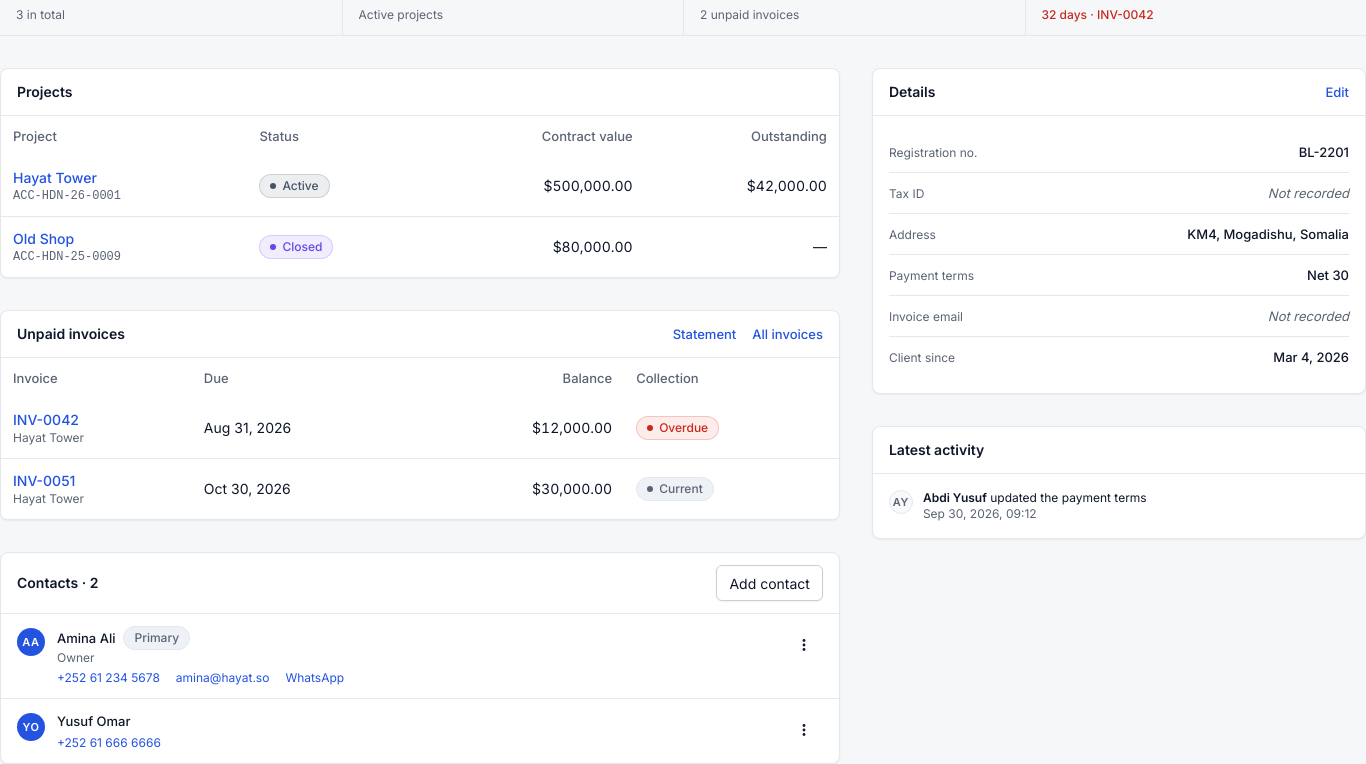
Test: ClientRecord — contacts › lists contacts with tel, mailto and WhatsApp links; the primary has no Remove
(page scrolled)
Click the button named "Actions for Amina Ali": (804, 645) [785,626,823,664]
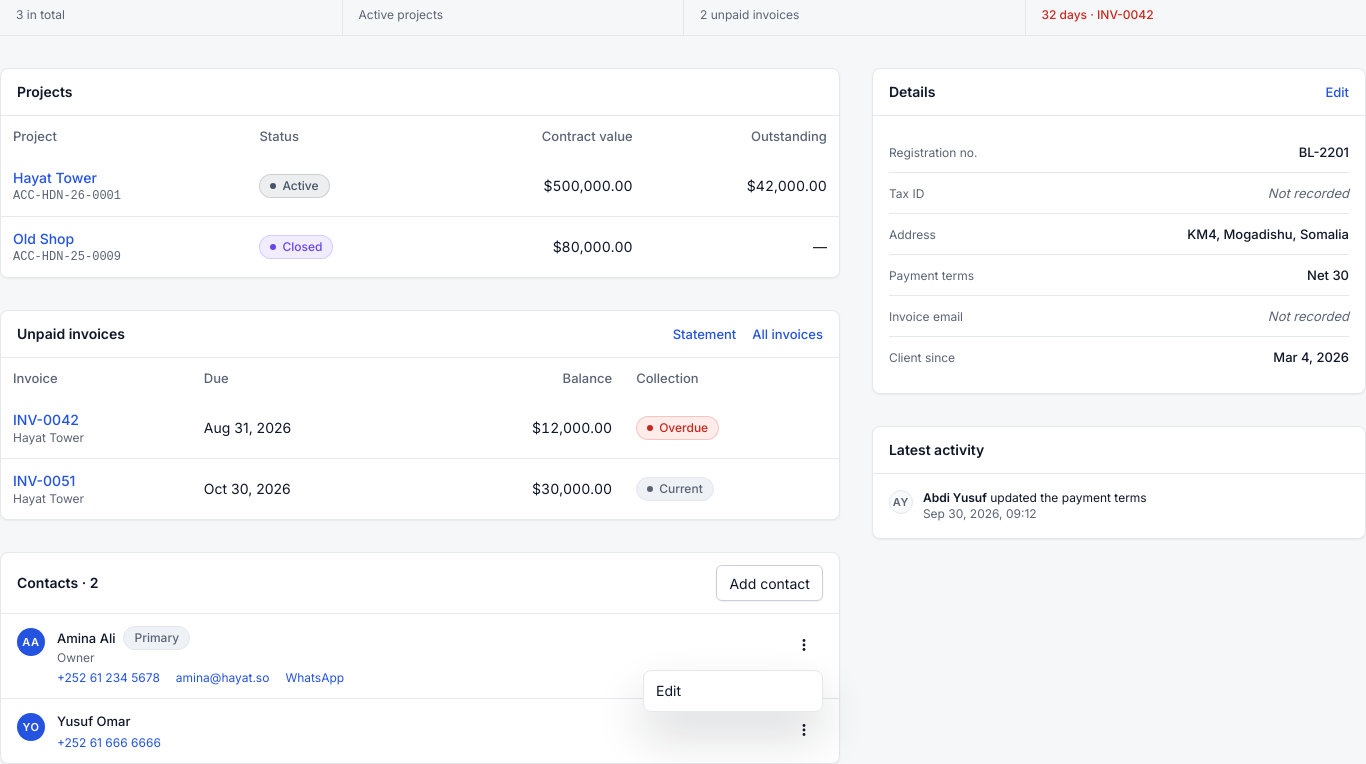
Expected: the menu item "Make primary" is not shown
Expected: the menu item "Edit" is shown, [656,682,681,699]
Press Escape
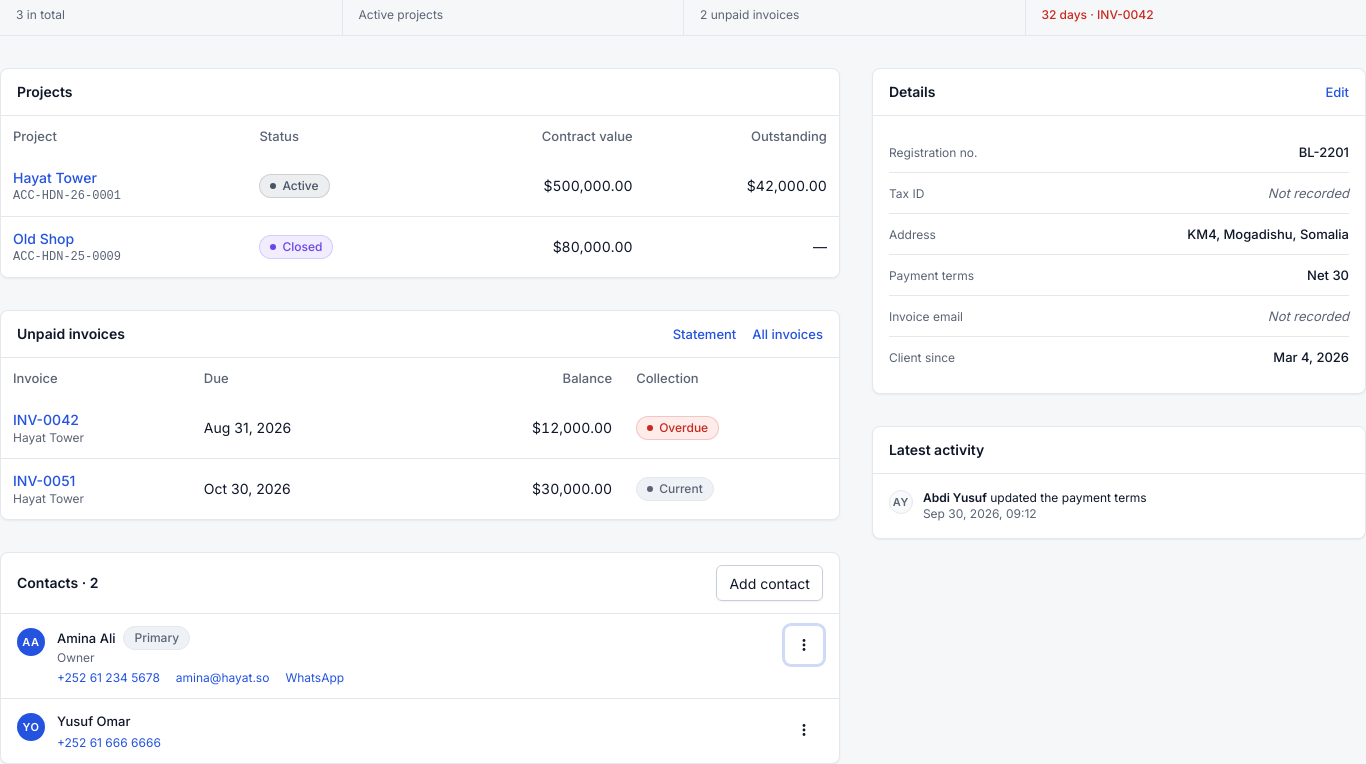
Click the button named "Actions for Yusuf Omar": (804, 730) [785,711,823,749]
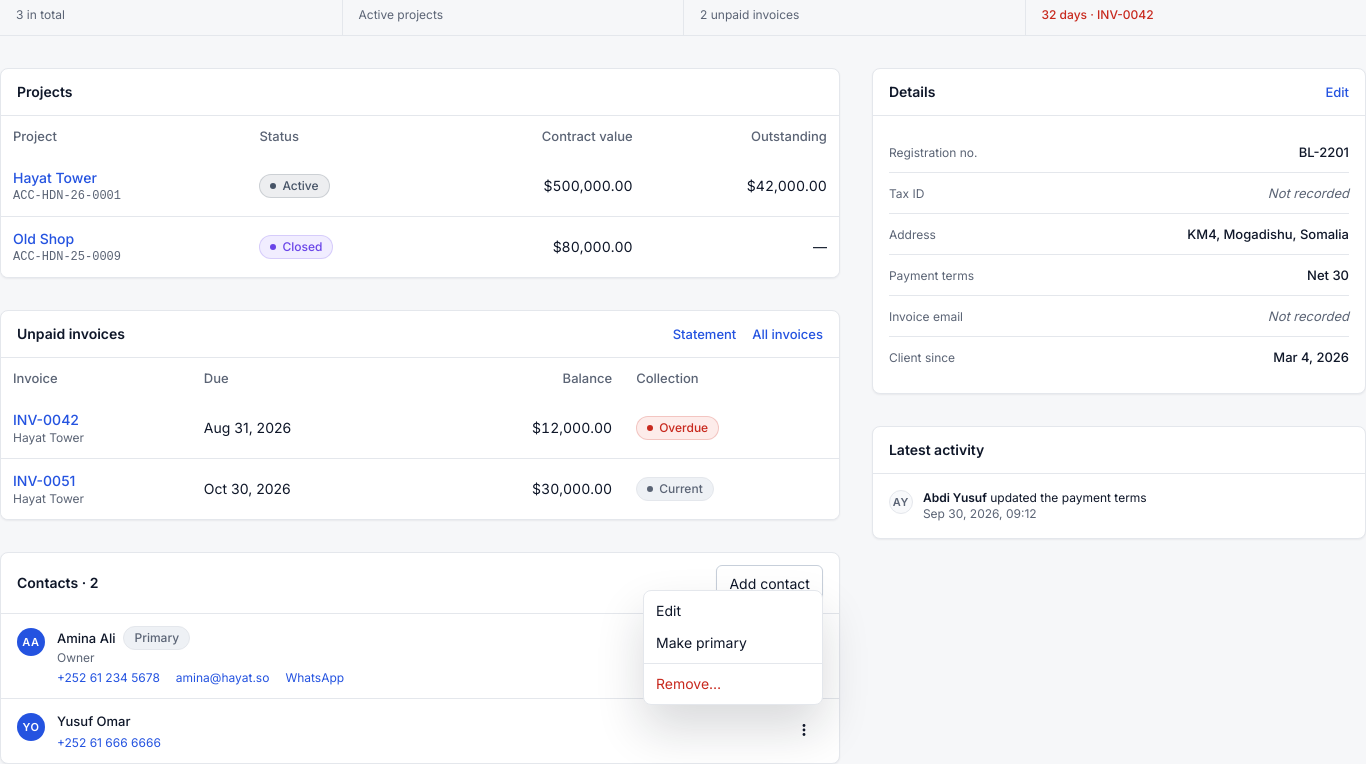
Expected: the menu item "Make primary" is shown, [656,634,747,651]
Expected: the menu item "Remove…" is shown, [656,675,721,692]
